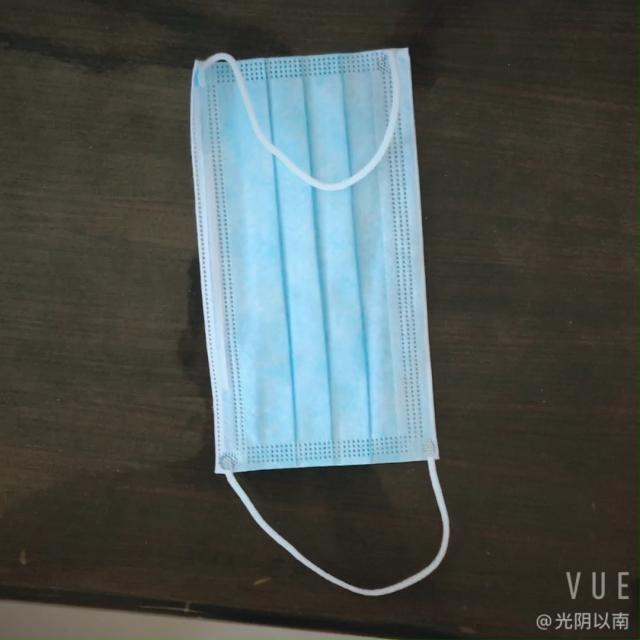face mask: (184, 45, 448, 471)
